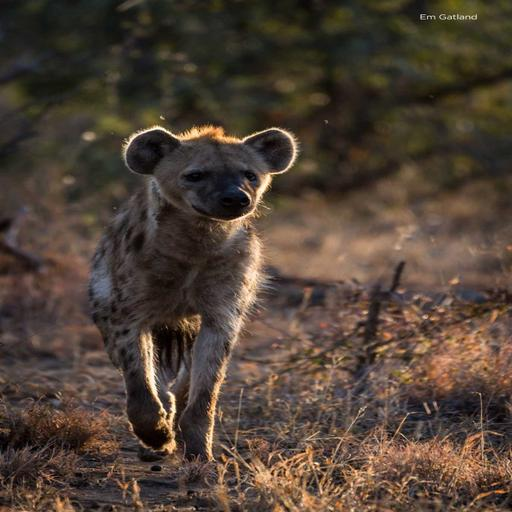Hyena: (88, 108, 306, 473)
